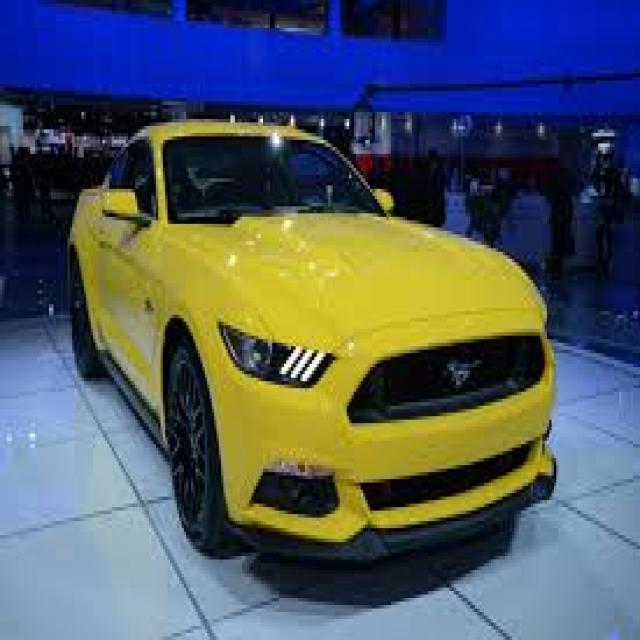car: (59, 117, 571, 583)
